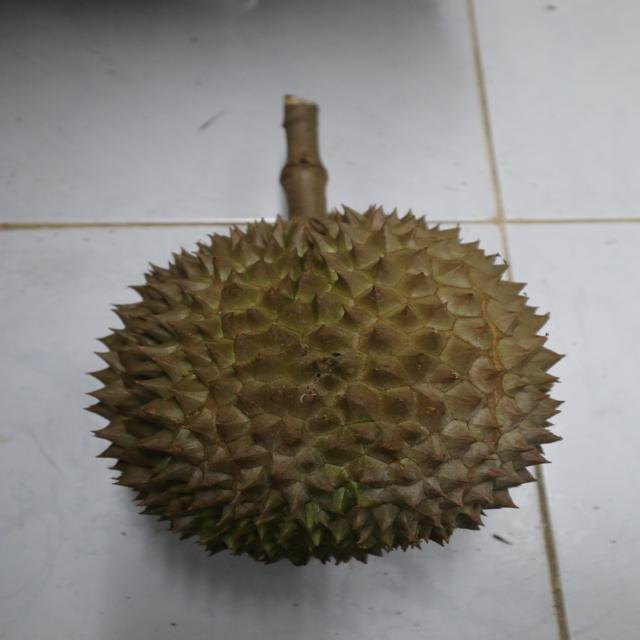mature: (83, 201, 570, 572)
